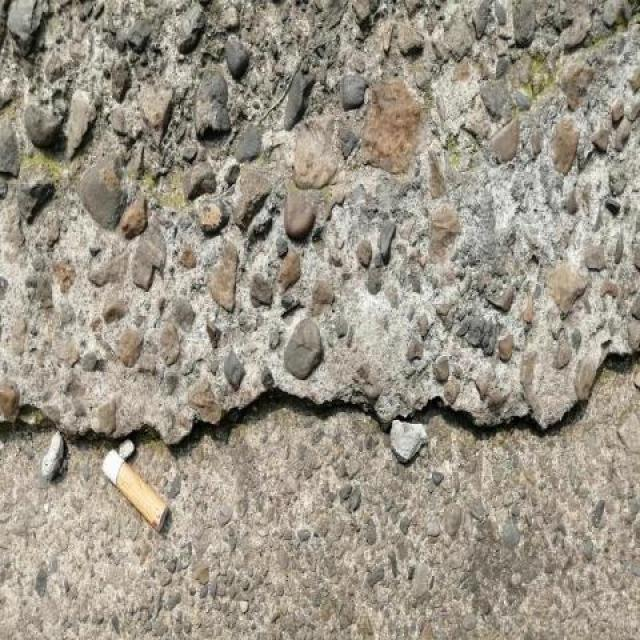non-organic waste: (97, 445, 176, 534)
